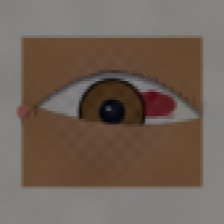hemorrhage_spot: (118, 78, 185, 131)
